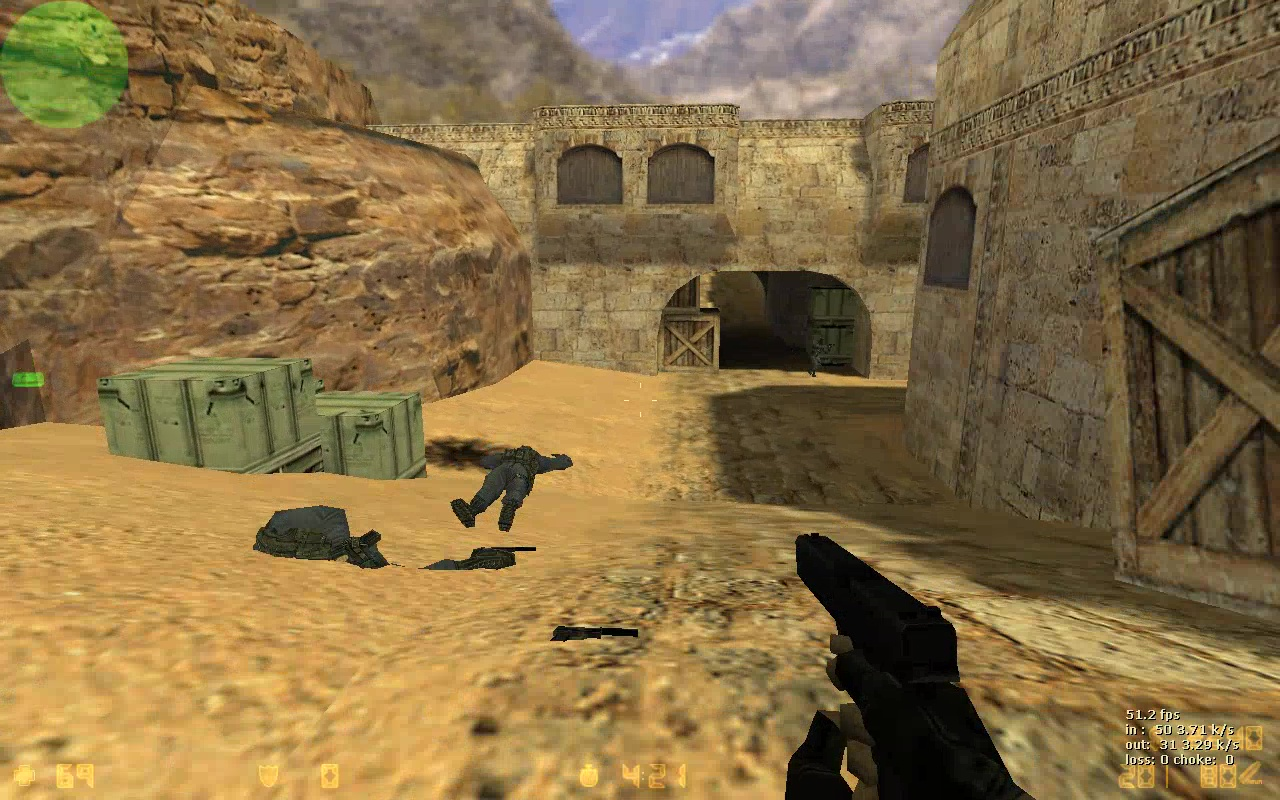ct: (805, 339, 834, 377)
dead: (452, 445, 568, 529)
